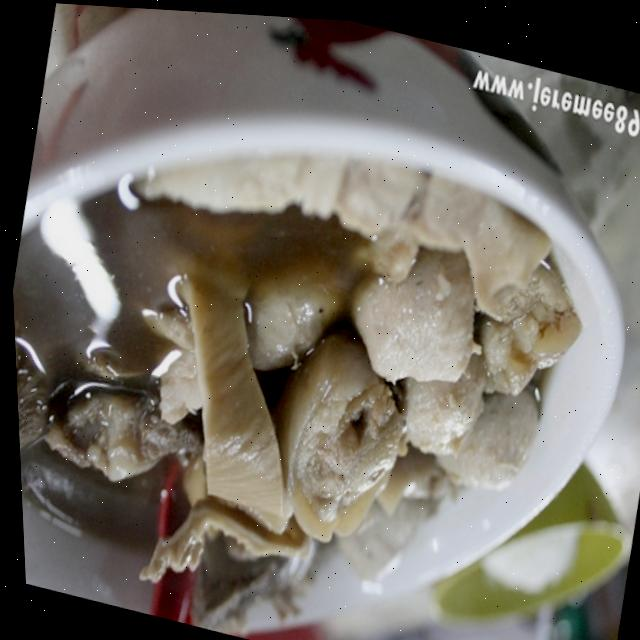汤锅炖物: (1, 34, 640, 640)
